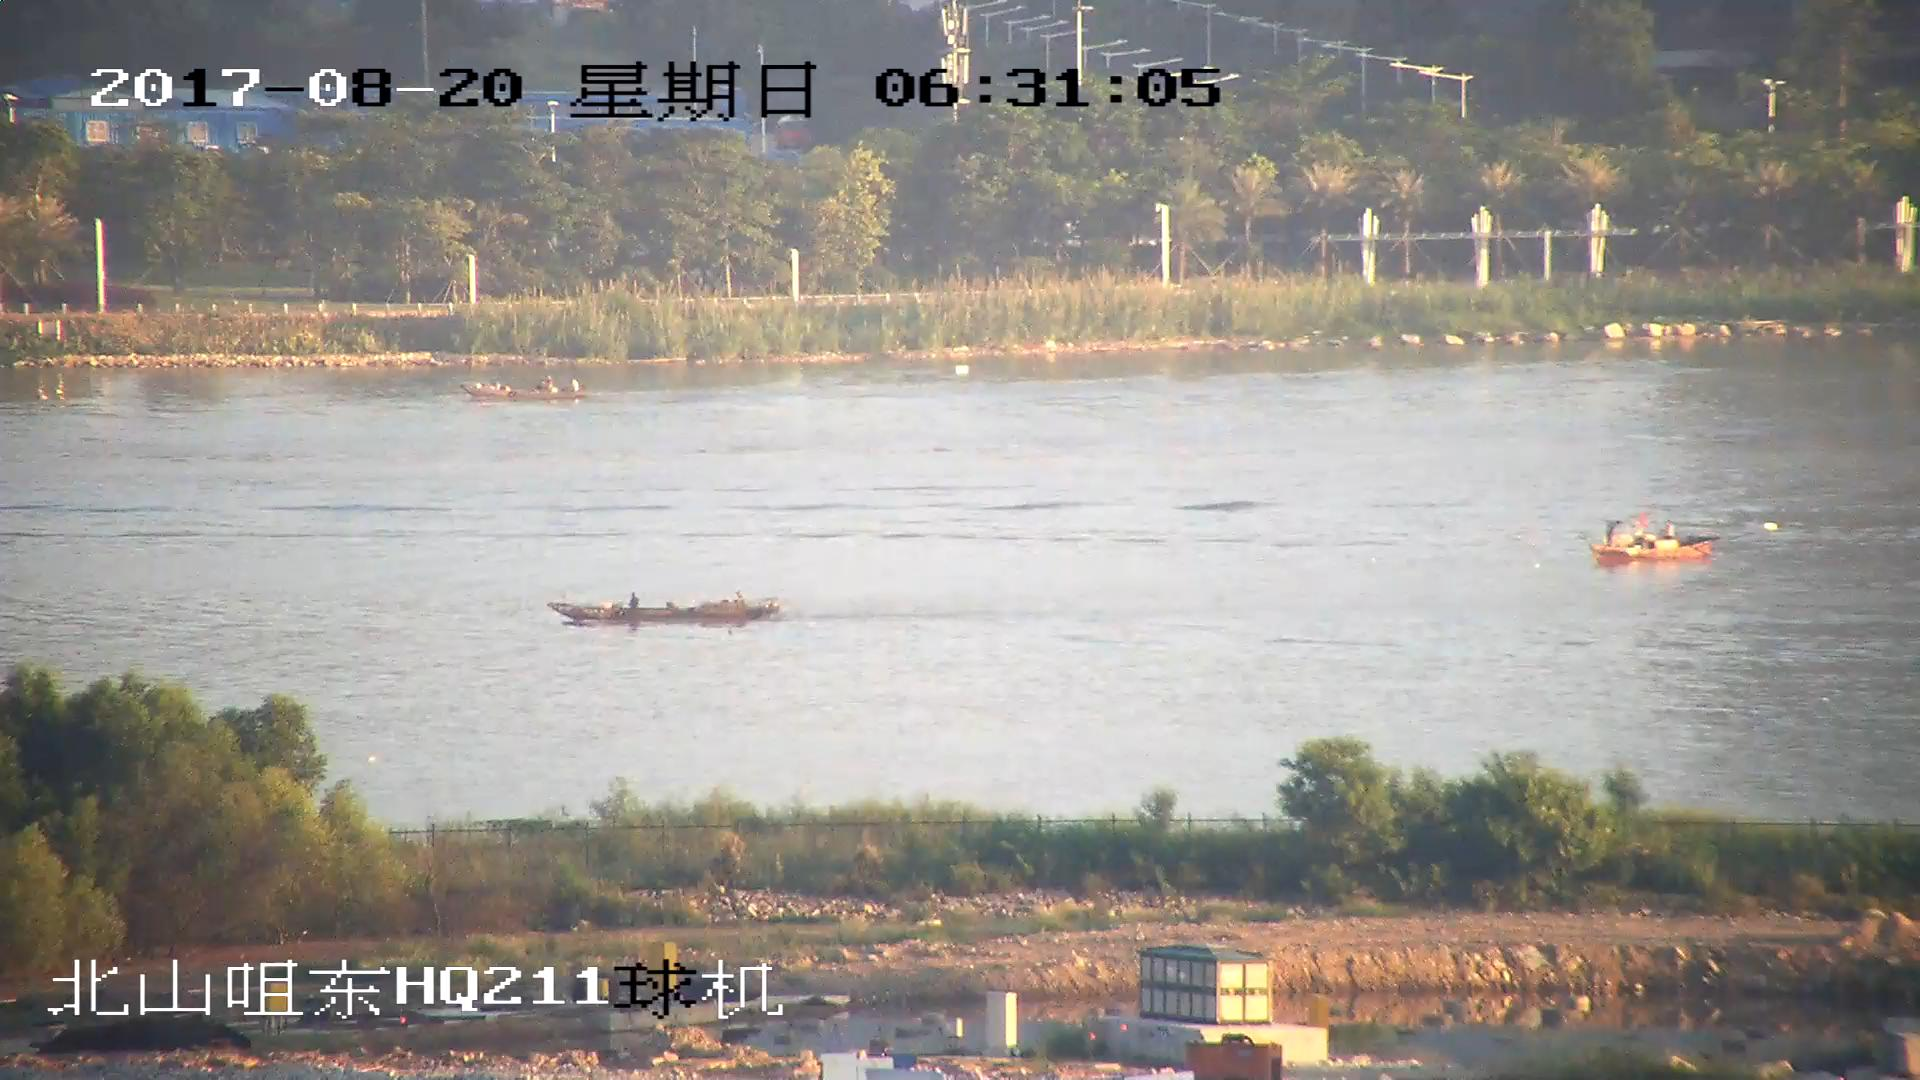fishing boat: (551, 595, 773, 624), (1596, 518, 1717, 567), (460, 373, 581, 404)
